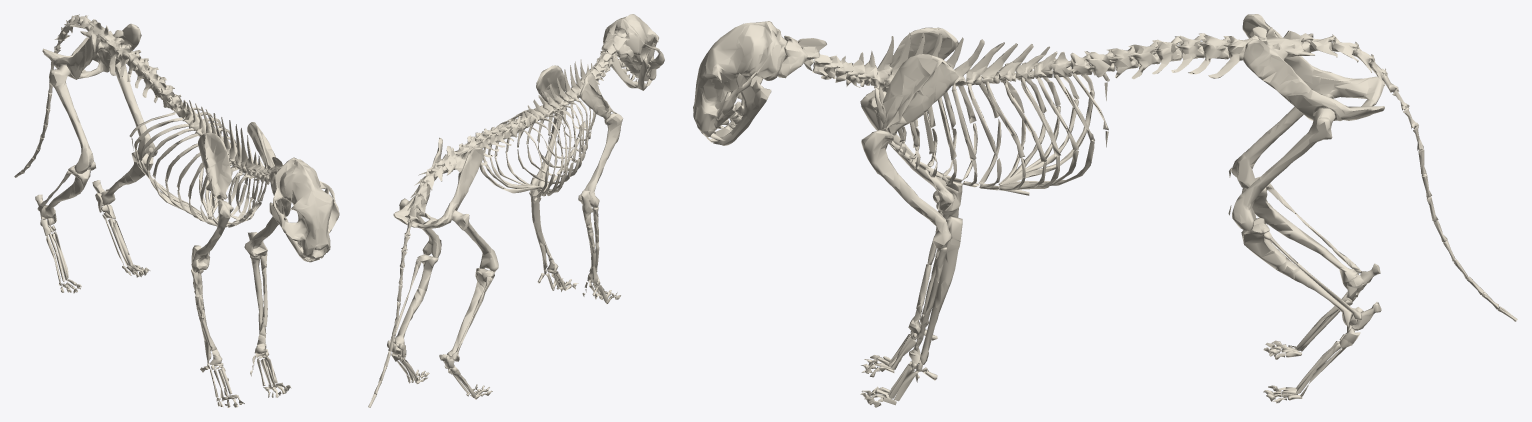
File: feline-skeleton-westerly-quick-12f6198511e9.glb
The picture shows the model from 3 angles, left to right: view 1: azimuth 30°, elevation 25°; view 2: azimuth 150°, elevation 25°; view 3: azimuth 270°, elevation 25°; orthographic projection. The views are drawn at different scales.
Parts seen in each view (by area): view 1: specimen; view 2: specimen; view 3: specimen.
Boxes of the visible parts, left/top/right/bottom form: specimen: left=14, top=14, right=339, bottom=407; specimen: left=368, top=14, right=664, bottom=407; specimen: left=693, top=14, right=1517, bottom=407.
Bounding box in the file's own units: 0.333 × 0.9767 × 2.
